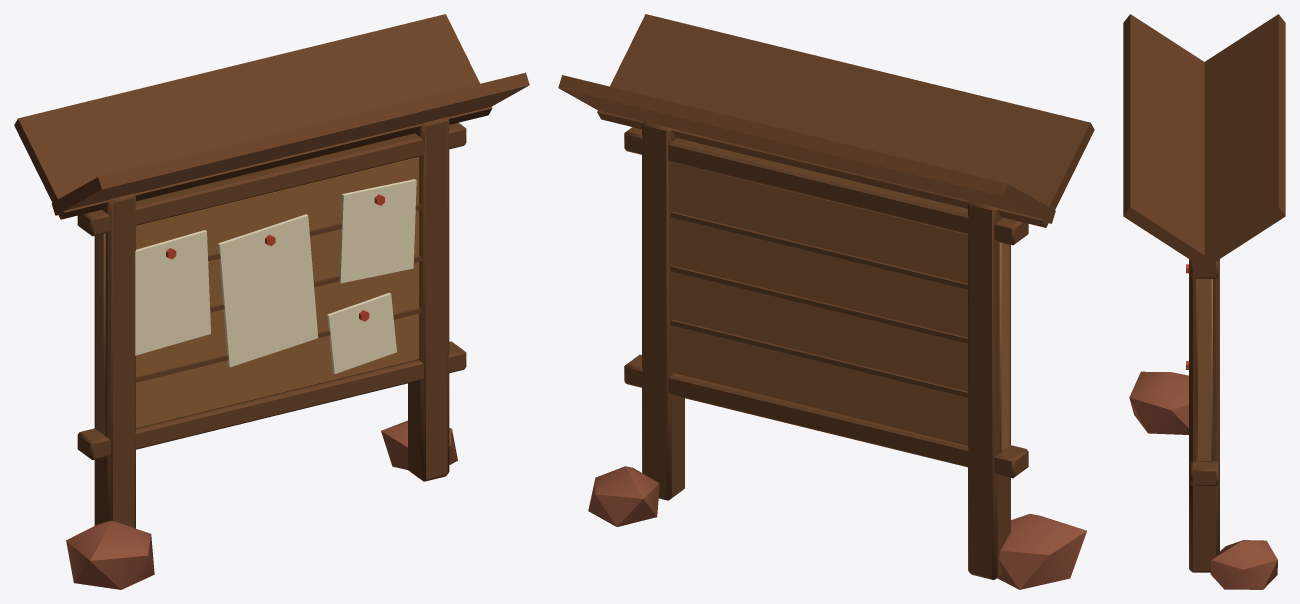
The model's file is NoticeBoard.fbx.
3 views of the same model, side by side, from view 1: azimuth 30°, elevation 25°; view 2: azimuth 150°, elevation 25°; view 3: azimuth 270°, elevation 25° (orthographic). The views are drawn at different scales.
Visible parts, largest first — view 1: WoodDark, Paper, Wood, RockDark; view 2: WoodDark, Wood, RockDark; view 3: WoodDark, RockDark, Wood.
Boxes of the visible parts, left/top/right/bottom form: WoodDark: left=14, top=14, right=529, bottom=528; Paper: left=135, top=179, right=416, bottom=373; Wood: left=96, top=157, right=419, bottom=435; RockDark: left=66, top=420, right=457, bottom=589; WoodDark: left=558, top=14, right=1094, bottom=579; Wood: left=673, top=162, right=1009, bottom=452; RockDark: left=588, top=466, right=1086, bottom=589; WoodDark: left=1123, top=14, right=1285, bottom=572; RockDark: left=1129, top=371, right=1277, bottom=589; Wood: left=1196, top=279, right=1212, bottom=461.
Bounding box in the file's own units: 8.24 × 7.81 × 2.91.
